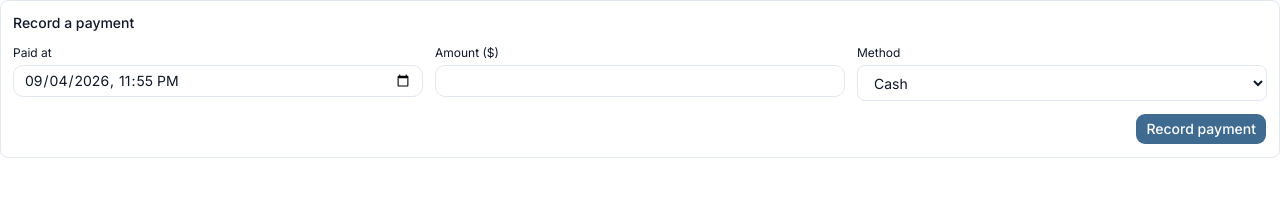
Test: RecordBhphPaymentForm › blocks submit when amount is missing
Click the button with test id "record-bhph-payment-submit": (1201, 129) [1135,113,1267,145]
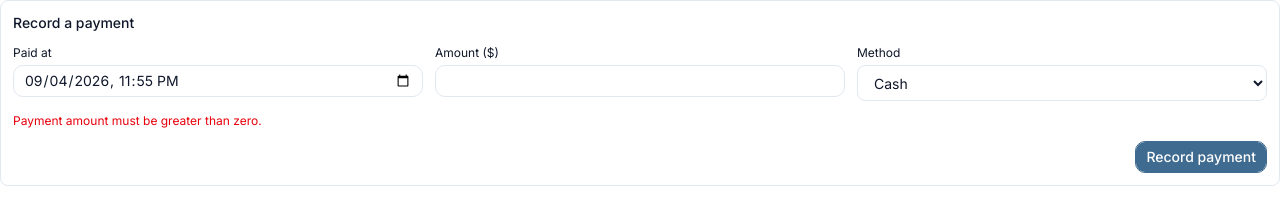
Result: the message "Payment amount must be greater than zero." is shown at [13,113,262,128]
